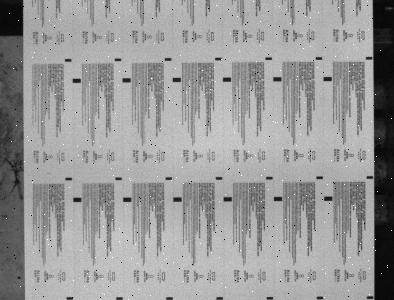qblock: (72, 78, 81, 83), (323, 76, 332, 81), (172, 77, 181, 82), (73, 197, 82, 202), (324, 196, 333, 201), (173, 197, 182, 202), (223, 77, 231, 82), (274, 196, 282, 201), (123, 197, 131, 202), (273, 77, 282, 81), (122, 78, 131, 82), (223, 197, 232, 201)
smallqblock: (164, 57, 172, 61), (365, 56, 373, 60), (266, 296, 274, 300), (215, 57, 222, 61), (216, 176, 223, 180), (114, 58, 122, 61), (165, 177, 173, 180), (366, 176, 374, 179), (316, 296, 324, 299), (216, 297, 224, 300), (64, 59, 71, 62), (65, 177, 72, 180), (315, 57, 322, 60), (265, 57, 272, 60), (115, 177, 122, 180), (316, 176, 323, 179), (266, 176, 273, 179), (166, 297, 173, 300), (66, 297, 73, 300), (116, 297, 123, 300), (367, 296, 374, 299)
